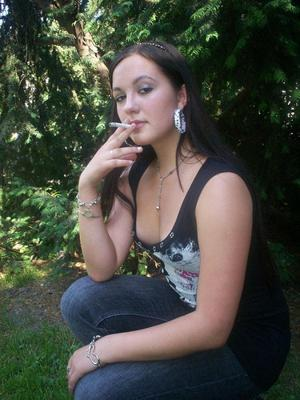person: (61, 38, 292, 398)
